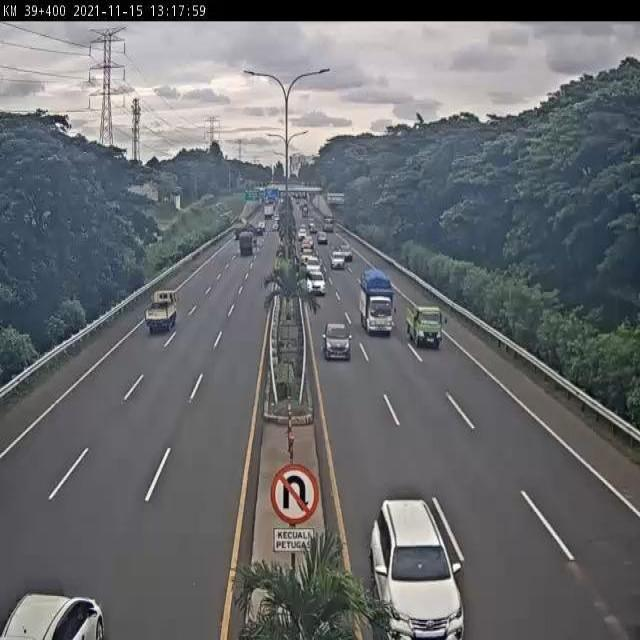Car: (370, 498, 464, 638), (0, 593, 106, 639), (322, 321, 354, 362), (306, 268, 326, 296), (331, 251, 346, 269), (338, 244, 353, 262), (317, 231, 328, 244), (298, 227, 306, 241), (258, 221, 265, 232)
Truck: (359, 268, 396, 334), (406, 304, 445, 349), (146, 289, 178, 333), (238, 231, 254, 256)
